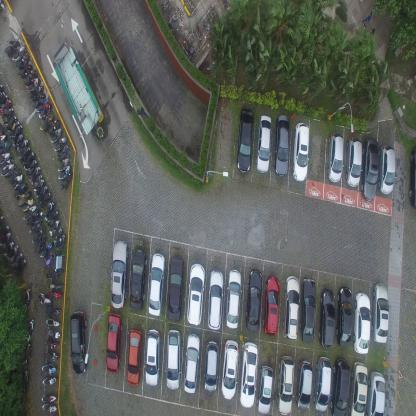car: (69, 308, 89, 376), (110, 238, 129, 309), (186, 262, 206, 327), (239, 340, 258, 408), (235, 107, 254, 174), (360, 137, 379, 203), (283, 273, 301, 341), (291, 120, 310, 184), (299, 277, 317, 344), (244, 266, 262, 333), (330, 356, 350, 416), (166, 256, 184, 322), (262, 272, 280, 337), (128, 246, 146, 311), (352, 290, 370, 355), (148, 252, 166, 317), (347, 360, 368, 415), (335, 285, 353, 349), (318, 285, 336, 348), (183, 332, 201, 395), (206, 268, 224, 331), (276, 354, 294, 416), (221, 338, 239, 400), (105, 311, 123, 373), (273, 113, 290, 178), (371, 282, 389, 342), (254, 114, 272, 173), (313, 354, 331, 412), (225, 268, 242, 329), (144, 326, 161, 386), (294, 356, 312, 412), (165, 328, 181, 391), (378, 143, 396, 196), (326, 131, 344, 183), (126, 328, 142, 386), (256, 364, 274, 415), (365, 370, 385, 415), (345, 136, 362, 188), (203, 338, 219, 393), (407, 143, 416, 209)
